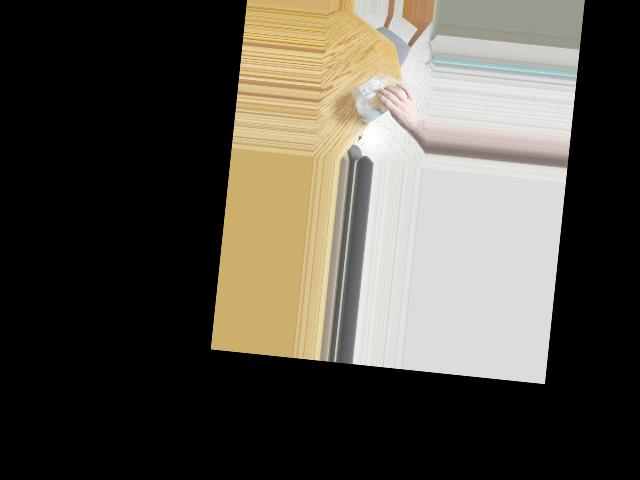cheese: (346, 68, 413, 125)
